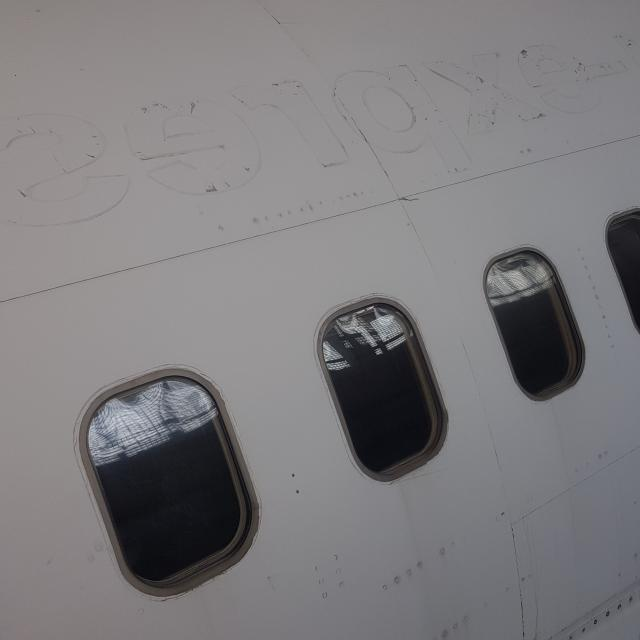crack: (398, 192, 424, 204)
